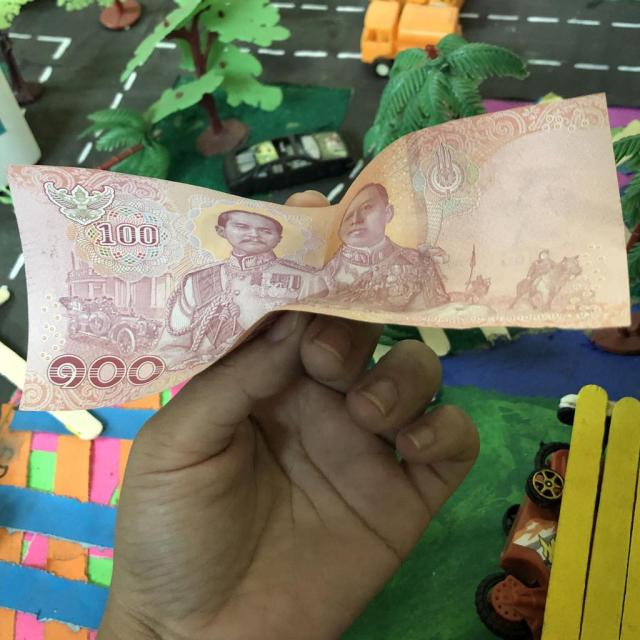THAI100: (9, 94, 630, 411)
